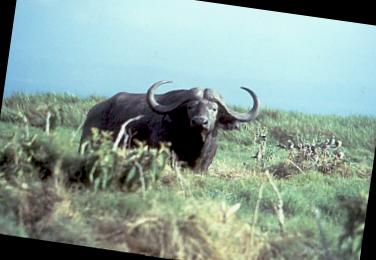Buffalo: (60, 34, 278, 210)
